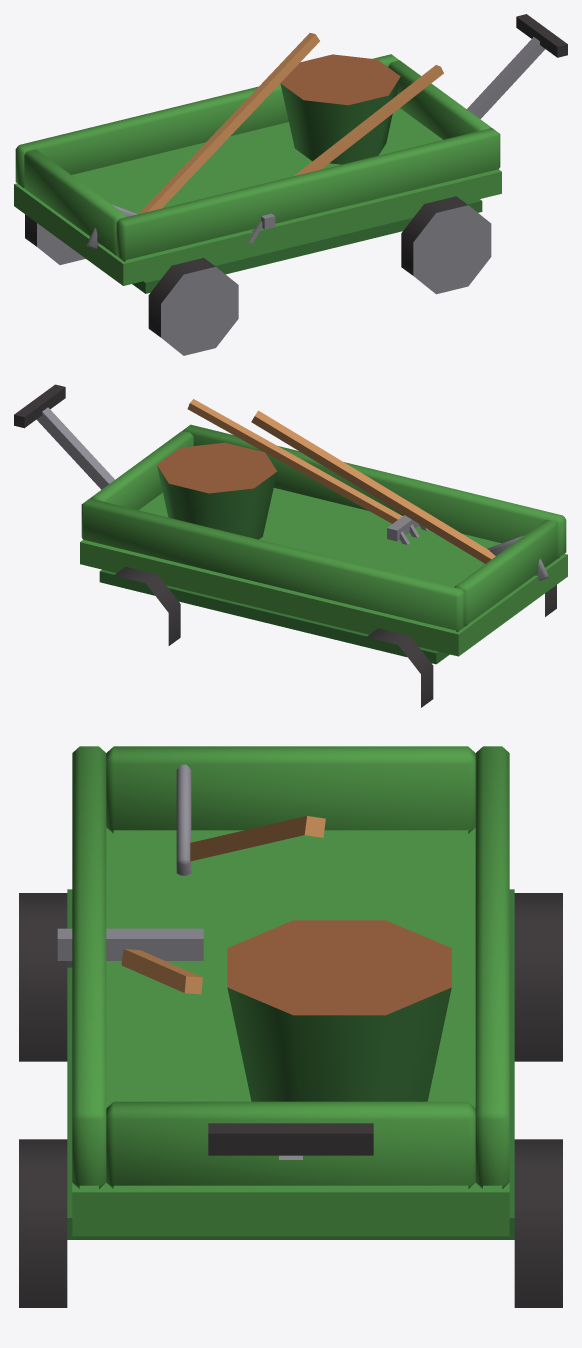
Rendered from zookeeper_cart.glb.
The picture shows the model from 3 angles, top to bottom: view 1: azimuth 30°, elevation 25°; view 2: azimuth 150°, elevation 25°; view 3: azimuth 270°, elevation 25°; orthographic projection. The views are drawn at different scales.
Parts seen in each view (by area): view 1: zookeeper_cart; view 2: zookeeper_cart; view 3: zookeeper_cart.
Part boxes in pixels (<box>): zookeeper_cart: <box>14,14,567,355</box>; zookeeper_cart: <box>14,384,567,707</box>; zookeeper_cart: <box>19,746,562,1307</box>.
Size of the model in its own units: 2.31 by 0.9963 by 1.12.
Materials: 1 (1 with a texture image).
